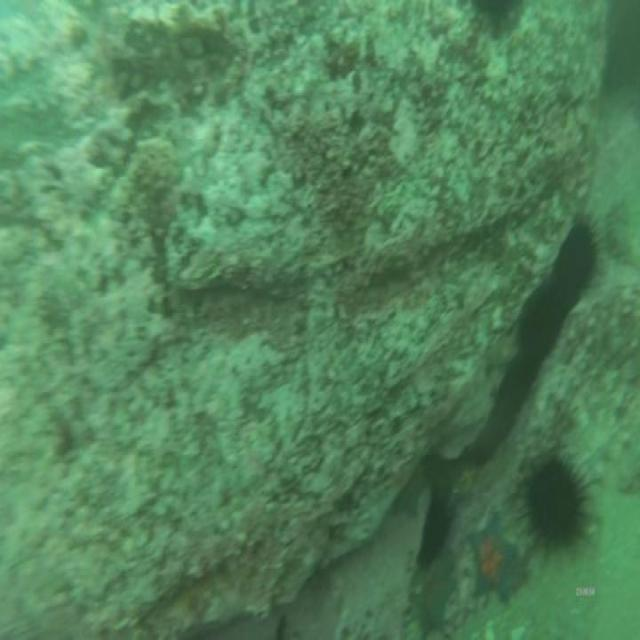echinus: (525, 439, 586, 566), (557, 207, 603, 308), (425, 483, 456, 568)
starfish: (466, 507, 524, 605), (412, 545, 456, 635)
